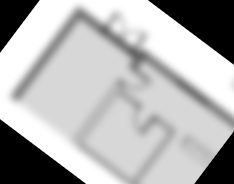door: (126, 105, 158, 137), (122, 67, 153, 98)
double door: (102, 9, 149, 54)
wall: (131, 44, 234, 131), (5, 2, 89, 107), (76, 8, 148, 66), (124, 46, 151, 76)
window: (171, 74, 214, 111)
